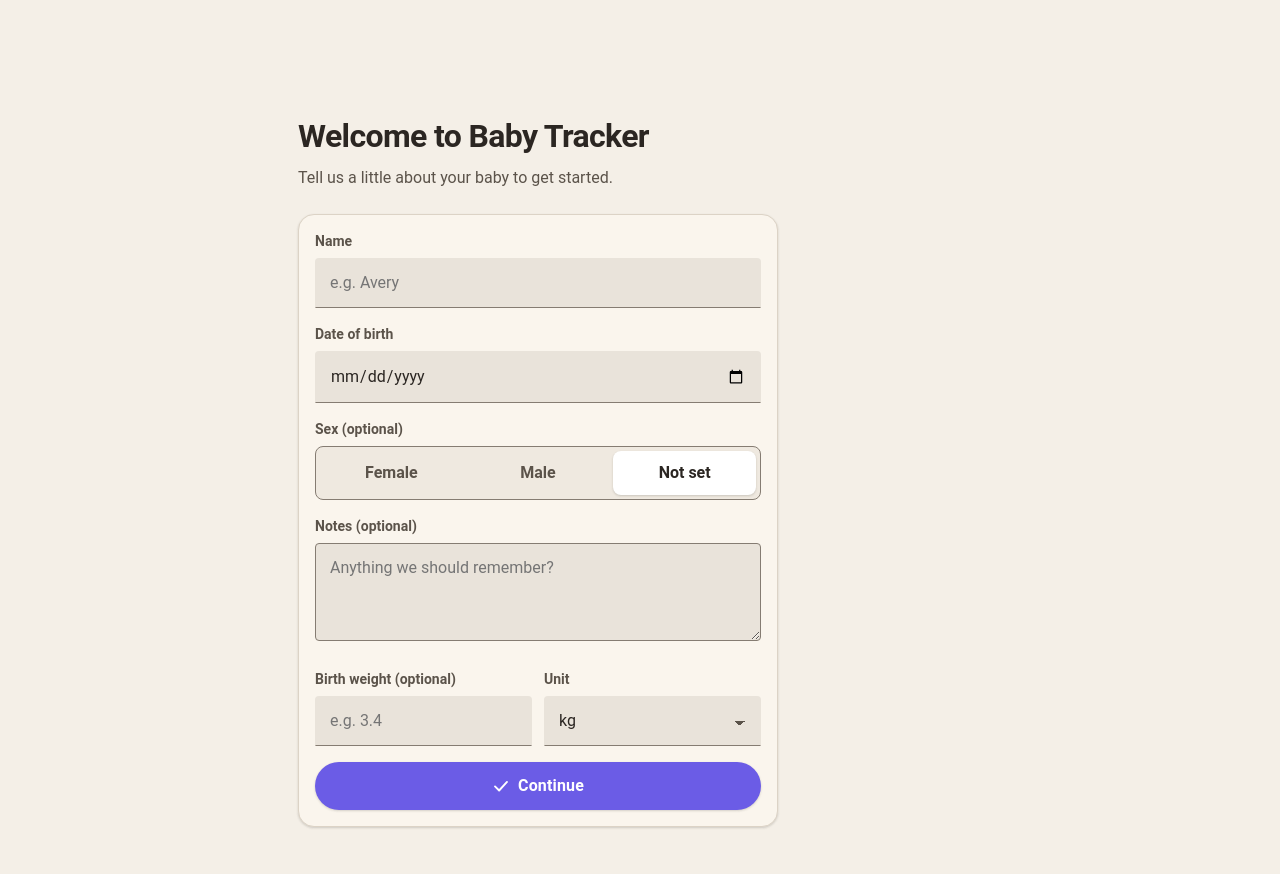
Test case: Home log timeline view › defaults to the list view (existing event cards)
Type "Avery" into the field labelled "Name". click: (538, 283)
box: [315,258,761,308]
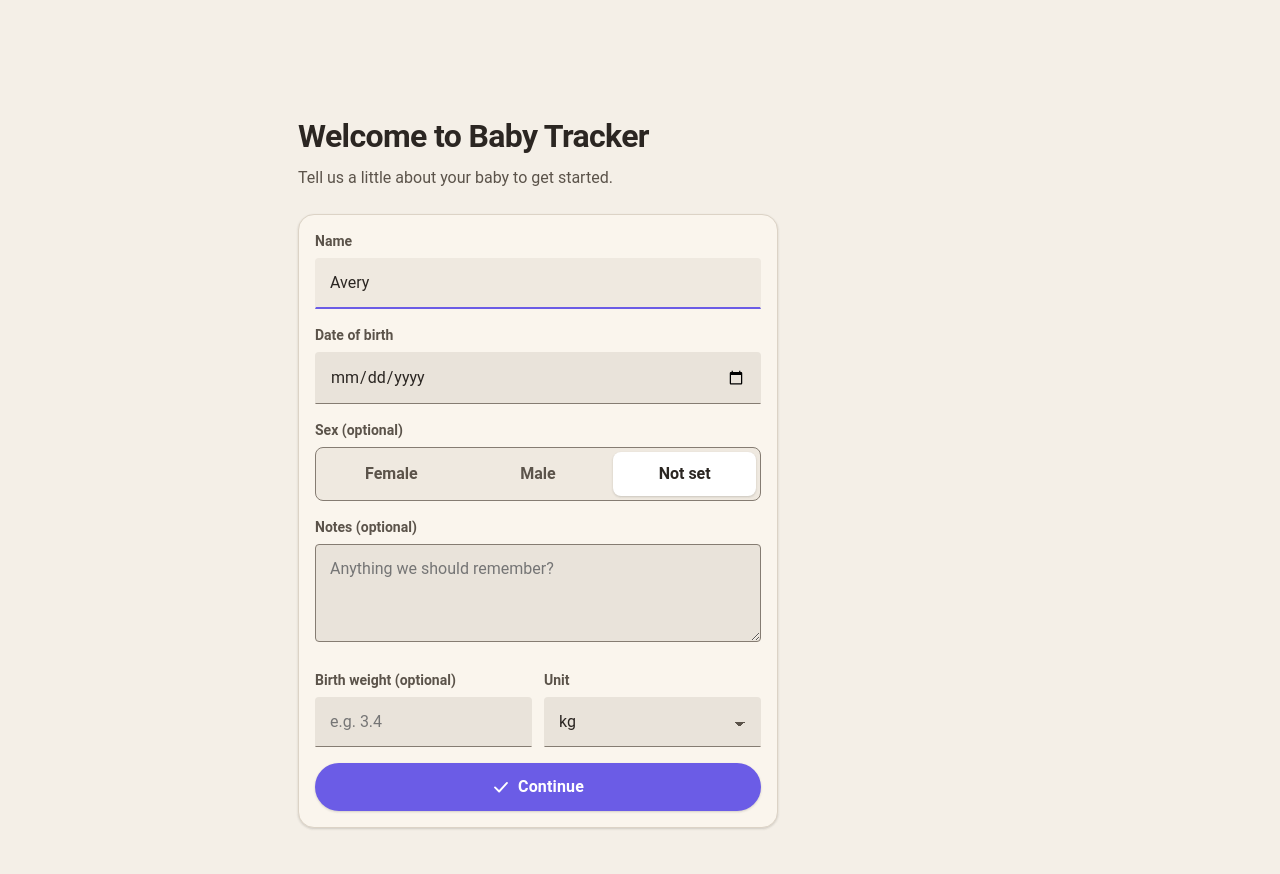
Type "2026-01-15" into the date field labelled "Date of birth". click: (538, 378)
box: [315,352,761,404]
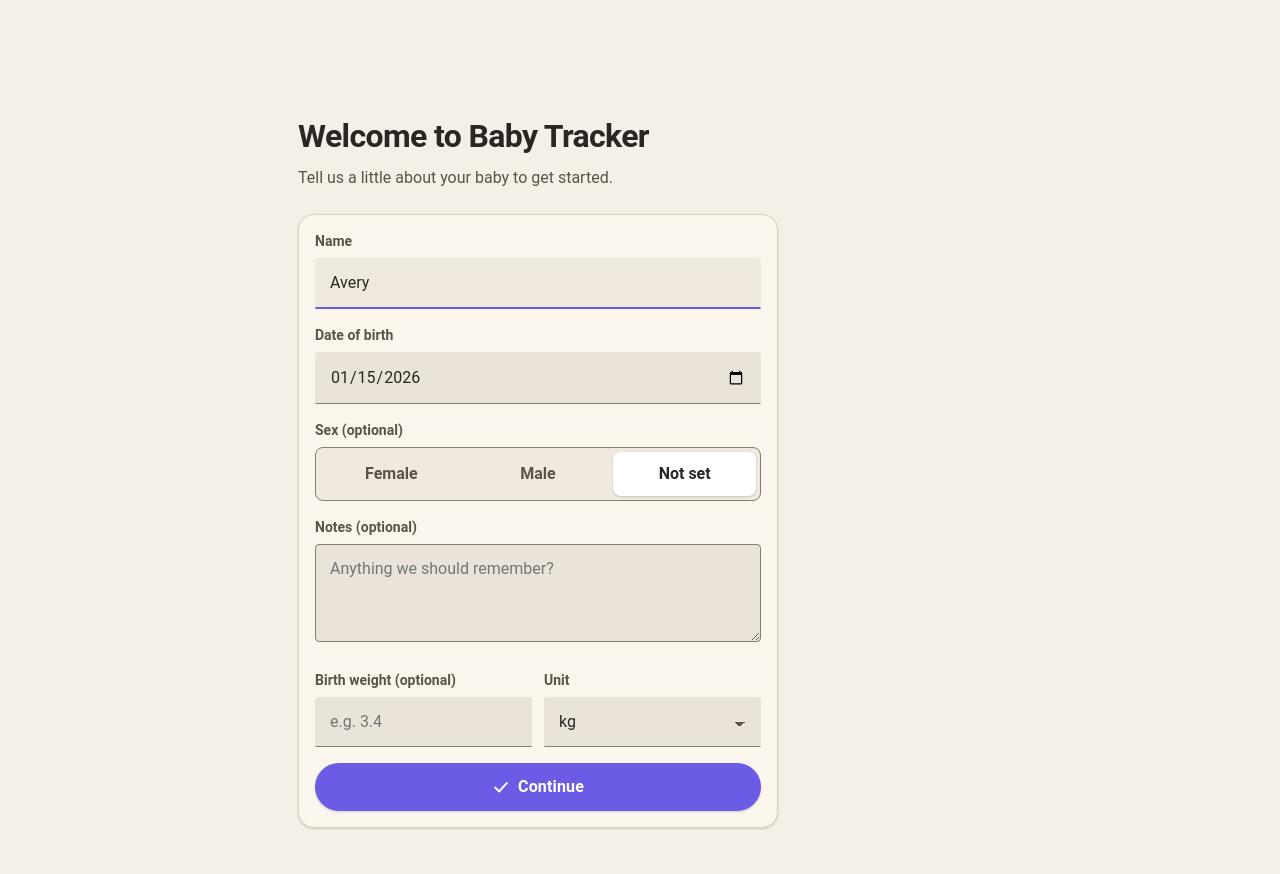
Click the button "Continue". click: click(538, 787)
box: [315,763,761,811]
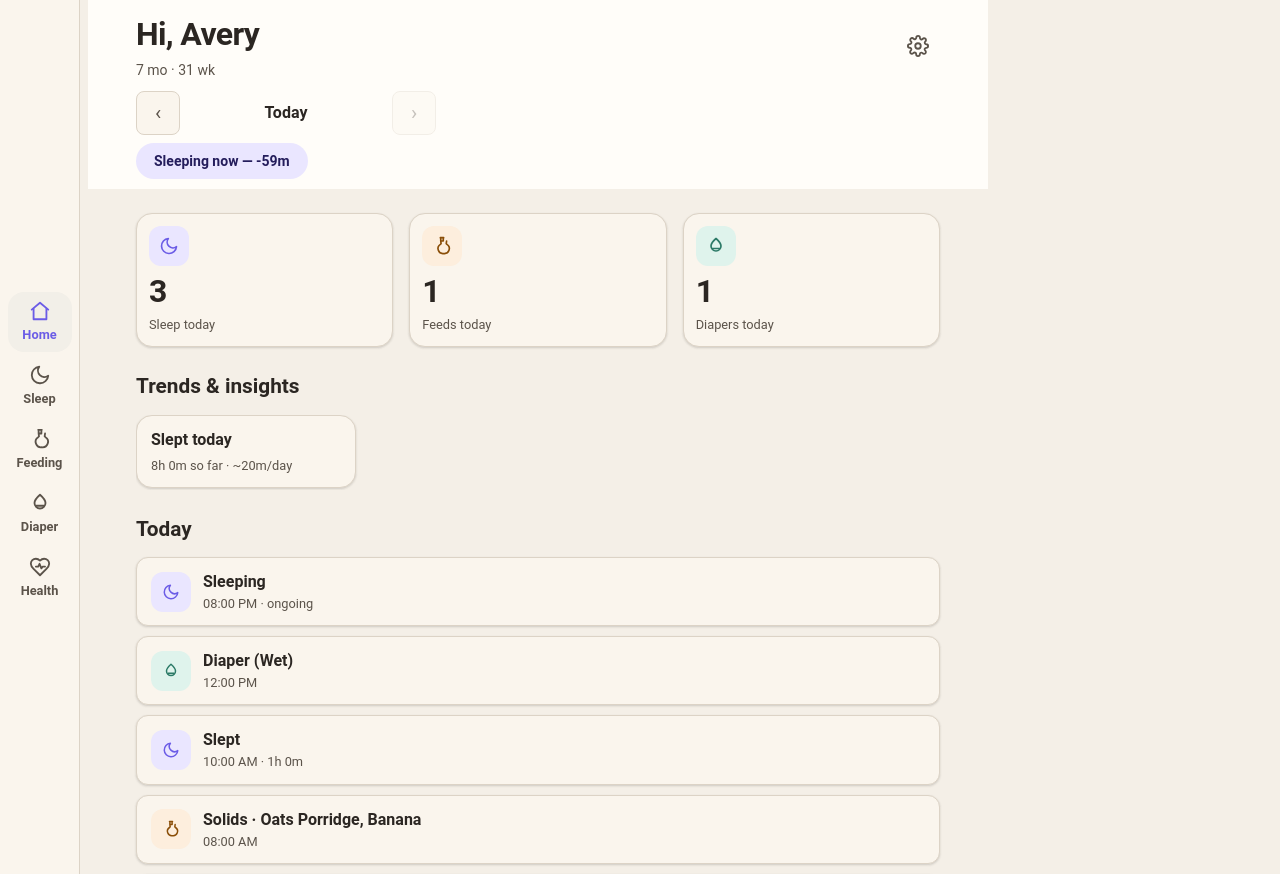
Expected: the button "Solids · Oats porridge, Banana 08:00 AM" is shown, [136,794,940,864]
